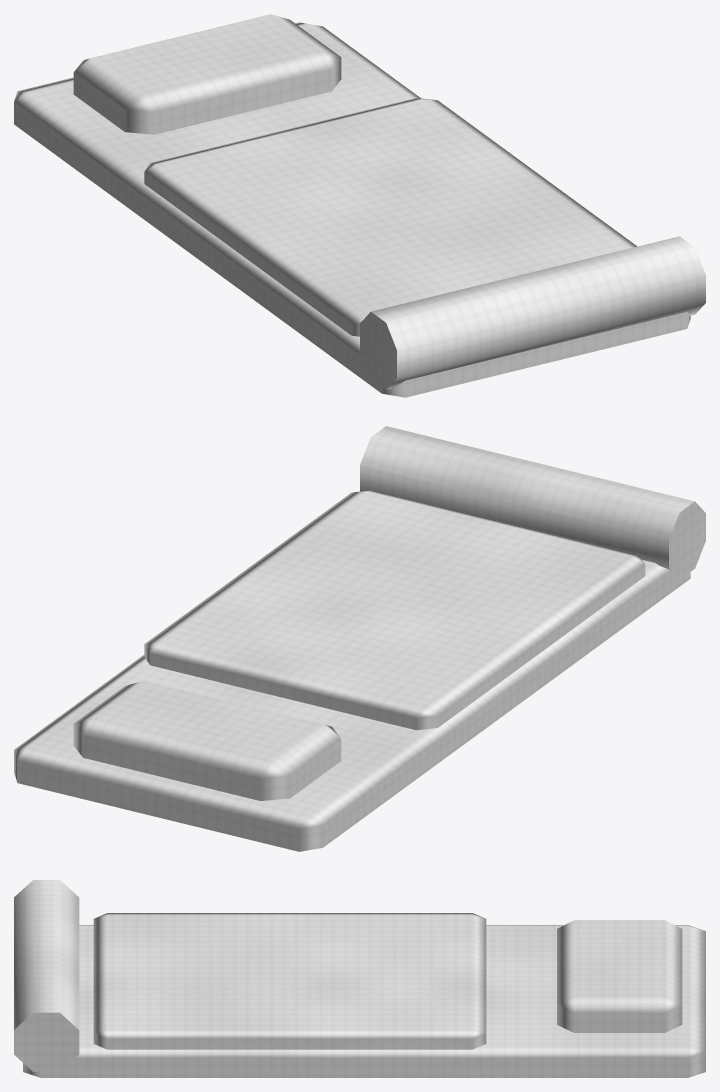
Rendered from bedroll.obj.
The picture shows the model from 3 angles, top to bottom: view 1: azimuth 30°, elevation 25°; view 2: azimuth 150°, elevation 25°; view 3: azimuth 270°, elevation 25°; orthographic projection. The views are drawn at different scales.
Visible parts, largest first — view 1: blanket, fabric_mat, rolled_foot_end, pillow; view 2: blanket, fabric_mat, rolled_foot_end, pillow; view 3: blanket, fabric_mat, pillow, rolled_foot_end.
Boxes of the visible parts, x1,y1,x2,y2 form: blanket: (144,98,637,336); fabric_mat: (14,22,690,397); rolled_foot_end: (360,236,705,389); pillow: (73,14,341,134); blanket: (144,490,645,730); fabric_mat: (14,556,690,851); rolled_foot_end: (360,426,705,571); pillow: (73,680,341,800); blanket: (93,913,486,1049); fabric_mat: (23,925,705,1077); pillow: (557,920,682,1032); rolled_foot_end: (14,880,79,1071).
Size of the model in its own units: 0.8 by 0.1831 by 1.76.
